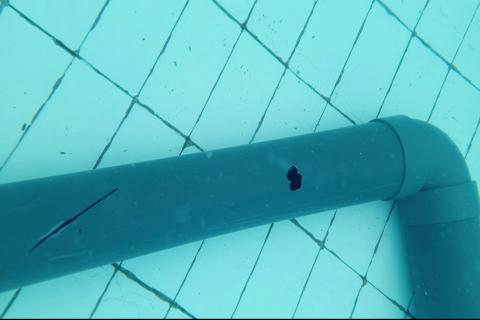kebocoran: (285, 164, 303, 193)
keretakan: (26, 186, 118, 253)
